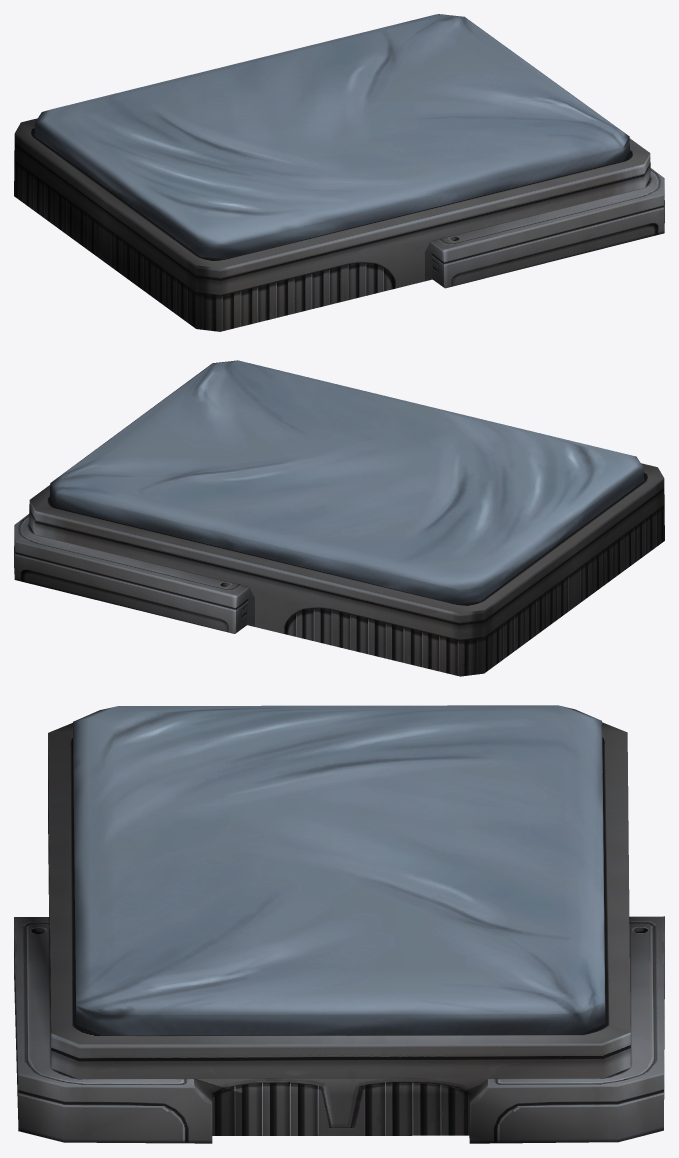
Rendered from bed3.glb.
The picture shows the model from 3 angles, top to bottom: view 1: azimuth 30°, elevation 25°; view 2: azimuth 150°, elevation 25°; view 3: azimuth 270°, elevation 25°; orthographic projection. The views are drawn at different scales.
Parts seen in each view (by area): view 1: Box09; view 2: Box09; view 3: Box09.
Boxes of the visible parts, x1=… form: Box09: x1=14, y1=14, x2=664, y2=331; Box09: x1=14, y1=360, x2=664, y2=676; Box09: x1=14, y1=705, x2=664, y2=1143.
Bounding box in the file's own units: 139 × 24.89 × 115.
Materials: 1 (1 with a texture image).
